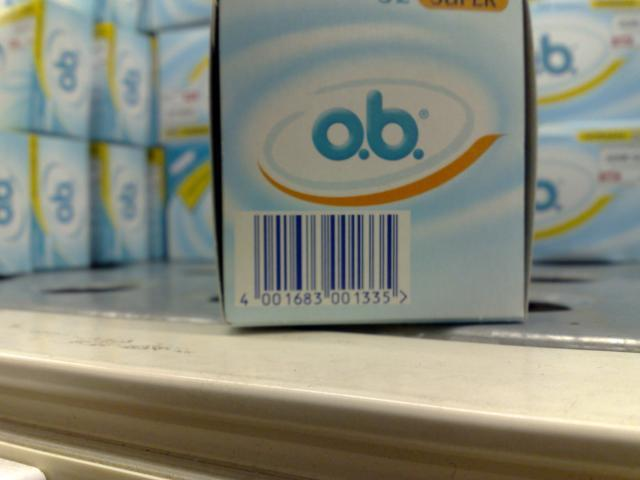Barcode: (235, 210, 412, 307)
